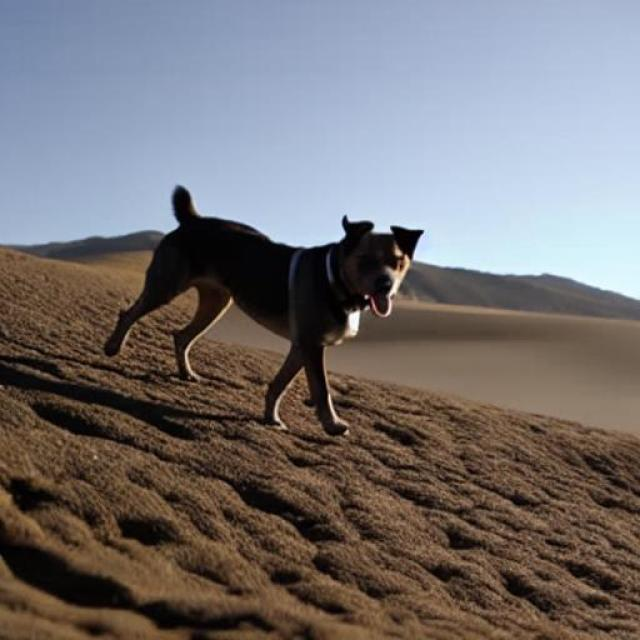Dog: (102, 186, 424, 437)
